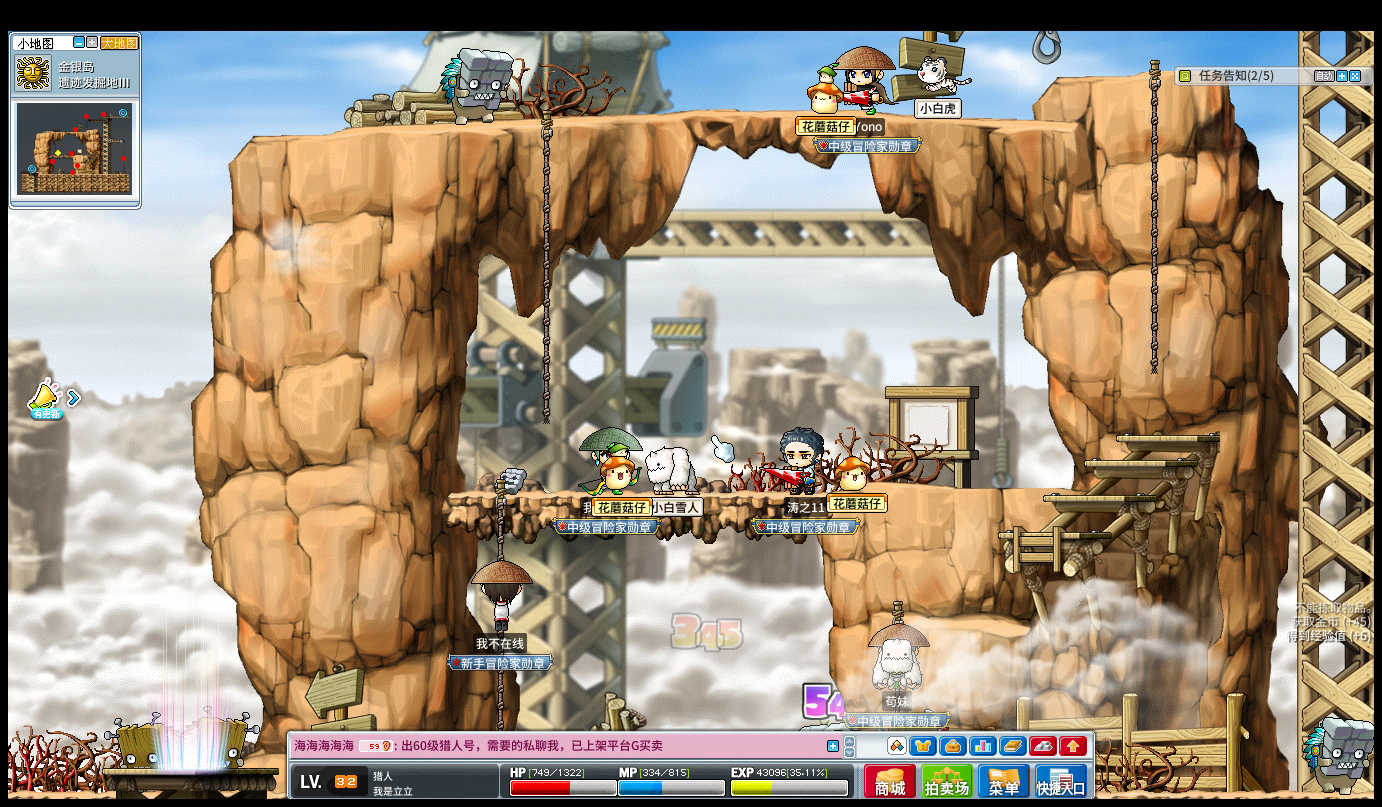floor: (250, 106, 1079, 141), (444, 490, 819, 501), (923, 615, 1029, 637), (906, 484, 1076, 494), (1052, 69, 1170, 83), (1113, 429, 1221, 443), (1104, 433, 1225, 443), (997, 530, 1108, 538), (1078, 459, 1193, 466), (1042, 494, 1154, 501)
monster: (440, 46, 513, 125), (1303, 717, 1374, 793)
rope: (1146, 57, 1160, 379), (540, 109, 551, 424), (492, 483, 505, 560), (494, 670, 504, 724)
